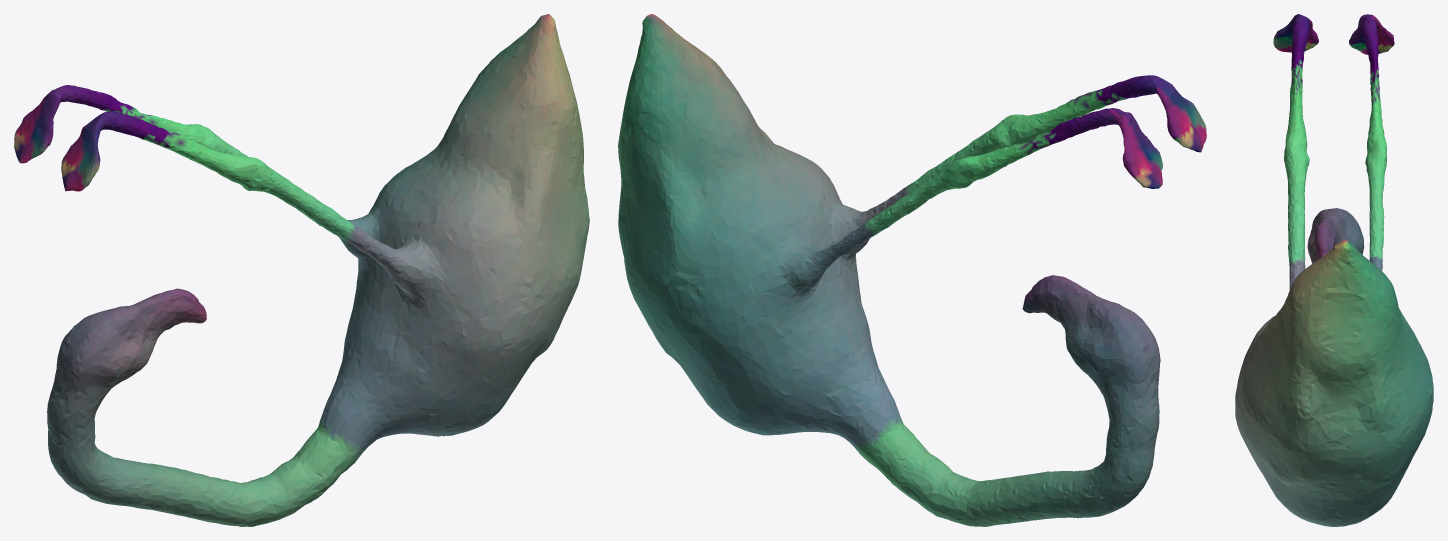
Rendered from flamingo-16.off.obj.
The picture shows the model from 3 angles, left to right: view 1: azimuth 30°, elevation 25°; view 2: azimuth 150°, elevation 25°; view 3: azimuth 270°, elevation 25°; orthographic projection. The views are drawn at different scales.
Size of the model in its own units: 1.32 by 1.09 by 0.4929.
